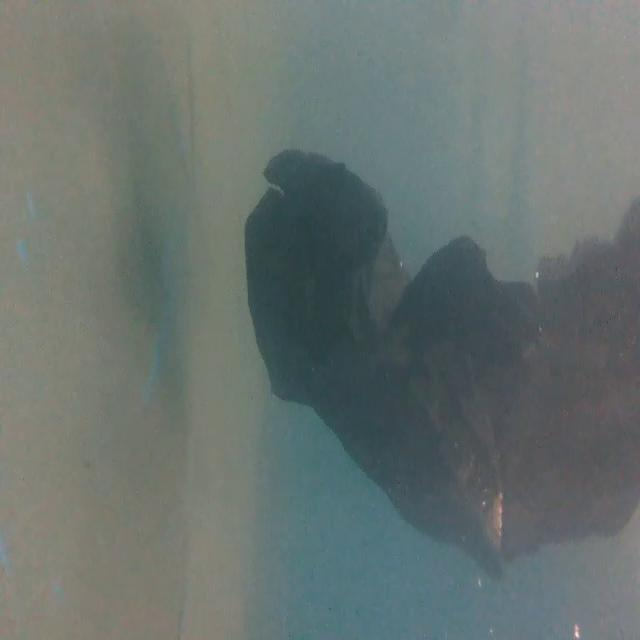plastic bags: (242, 142, 640, 578)
